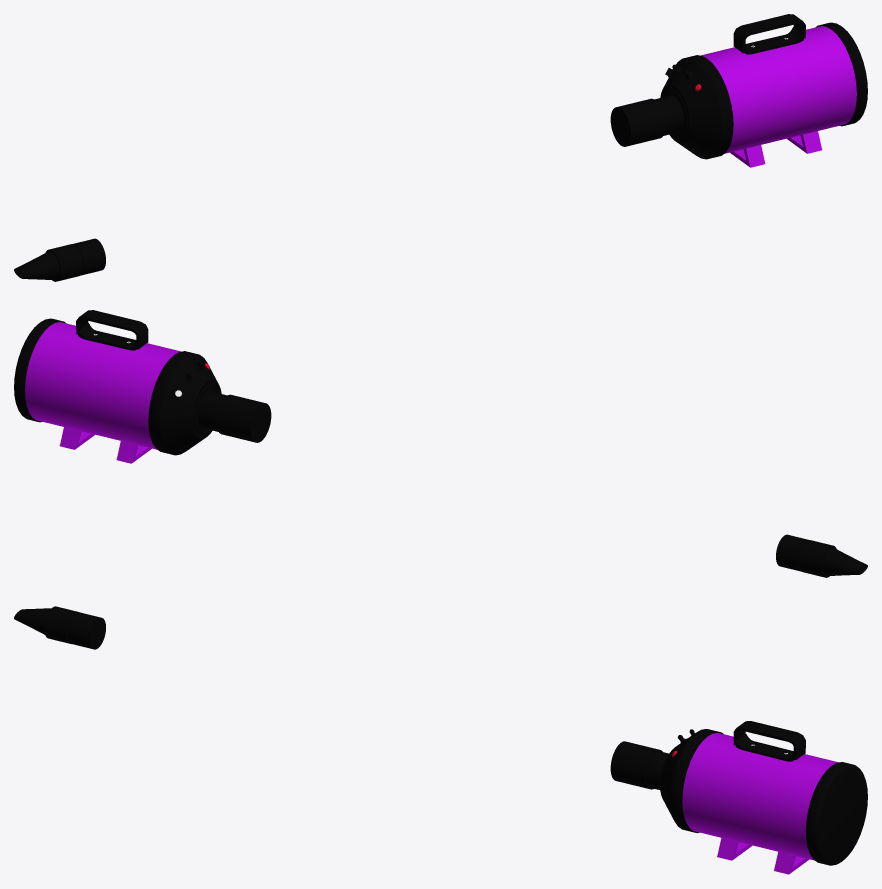
File: DryerV3.fbx
3 views of the same model, one above another, from view 1: azimuth 30°, elevation 25°; view 2: azimuth 150°, elevation 25°; view 3: azimuth 330°, elevation 25° (orthographic).
Visible parts, largest first — view 1: Cylinder, Cylinder.001; view 2: Cylinder, Cylinder.001; view 3: Cylinder, Cylinder.001.
Part boxes in pixels (x1,y1,x2,y2): Cylinder: (610,14,867,167); Cylinder.001: (14,238,105,281); Cylinder: (14,310,271,463); Cylinder.001: (776,534,867,577); Cylinder: (610,721,867,874); Cylinder.001: (14,606,105,649).
Bounding box in the file's own units: 1871 × 268 × 205.
Materials: 2 (2 with a texture image).
